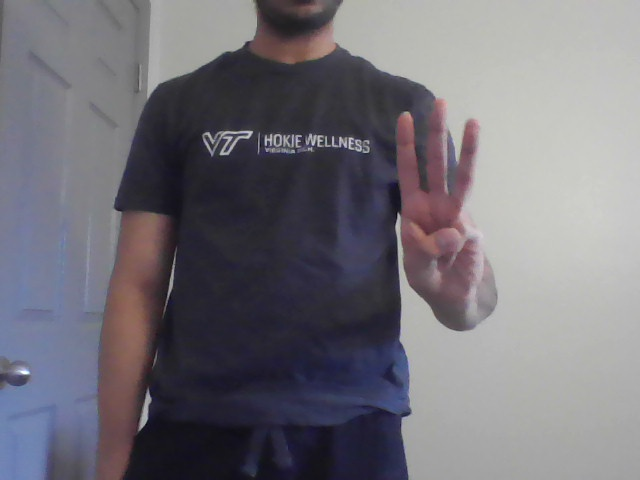three: (393, 95, 490, 299)
